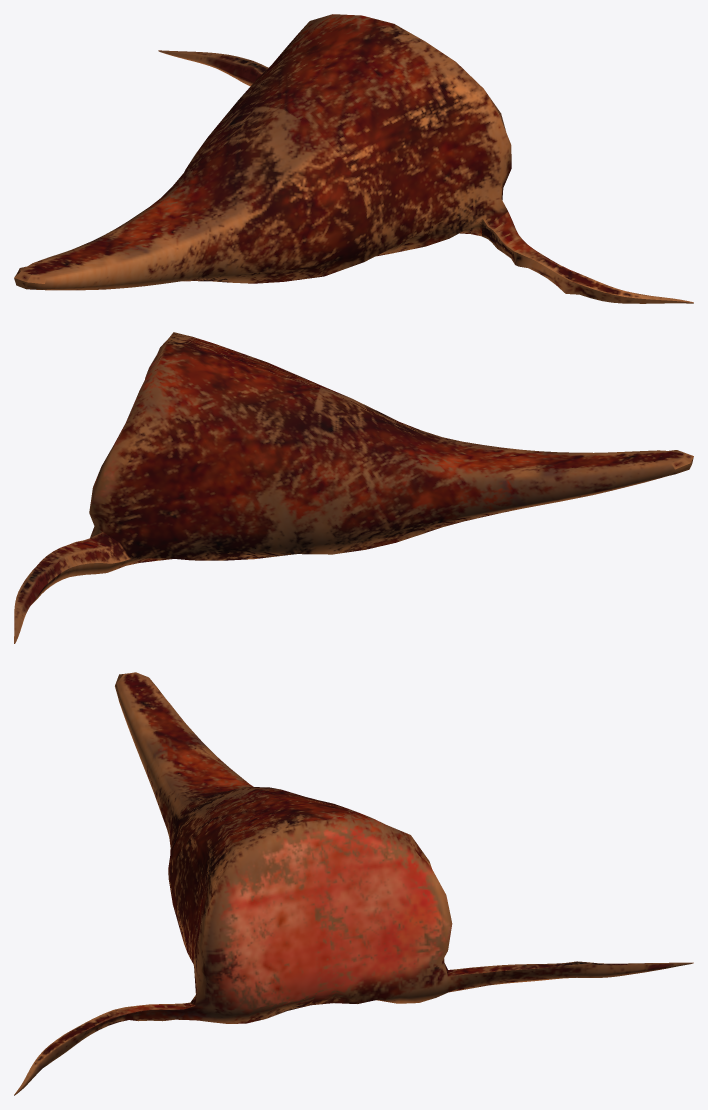
The model's file is SM_FishHead.fbx.
3 views of the same model, one above another, from view 1: azimuth 30°, elevation 25°; view 2: azimuth 150°, elevation 25°; view 3: azimuth 270°, elevation 25° (orthographic). The views are drawn at different scales.
Parts seen in each view (by area): view 1: SM_FishHead_LOD0; view 2: SM_FishHead_LOD0; view 3: SM_FishHead_LOD0.
Part boxes in pixels (bbox=[...]): SM_FishHead_LOD0: bbox=[14, 14, 693, 303]; SM_FishHead_LOD0: bbox=[14, 332, 693, 643]; SM_FishHead_LOD0: bbox=[14, 672, 693, 1095].
Size of the model in its own units: 43.75 by 42.62 by 14.
1 material, 1 textured.
